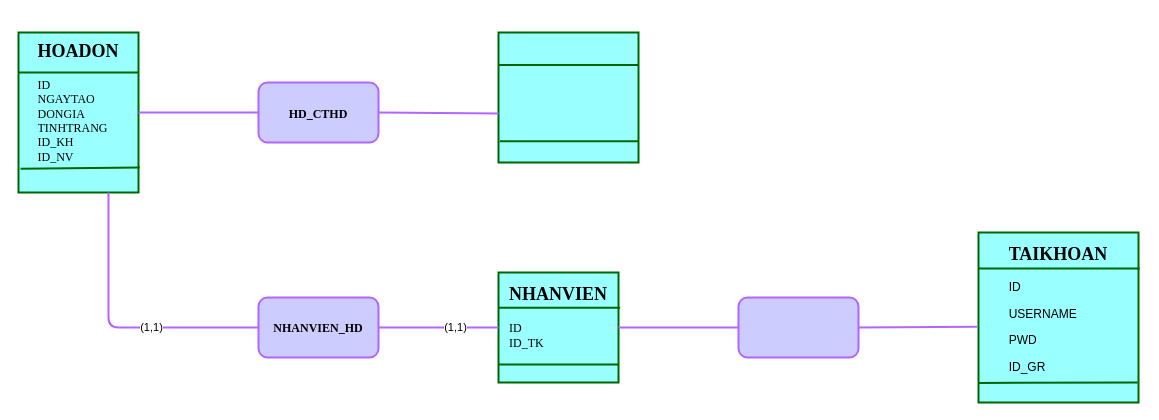
This 1159x420 diagram has some shape labels left out. The shapes that lost their labels are listed below. From the top down, each one's box as (x1, y1, x2, y2) in pixels, then its label:
(497, 31, 639, 163): CHITIETHD ID ID_HD ID_SP SOLUONG
(737, 296, 859, 358): TAIKHOAN_NV
